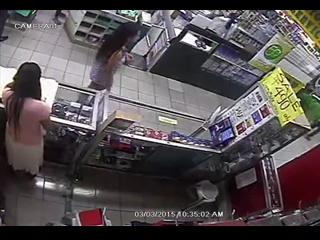Normal: (2, 61, 55, 180), (86, 21, 142, 92), (0, 10, 9, 42)
